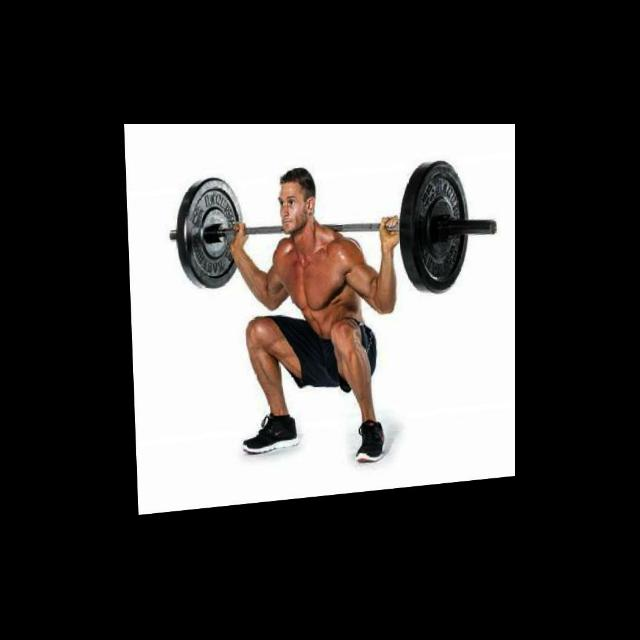barbell: (404, 161, 499, 306)
